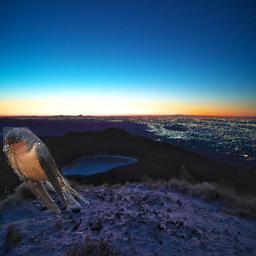Swallow: (3, 127, 89, 214)
